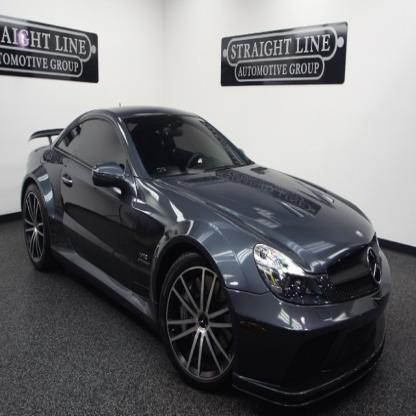Vehicle: (21, 107, 392, 408)
